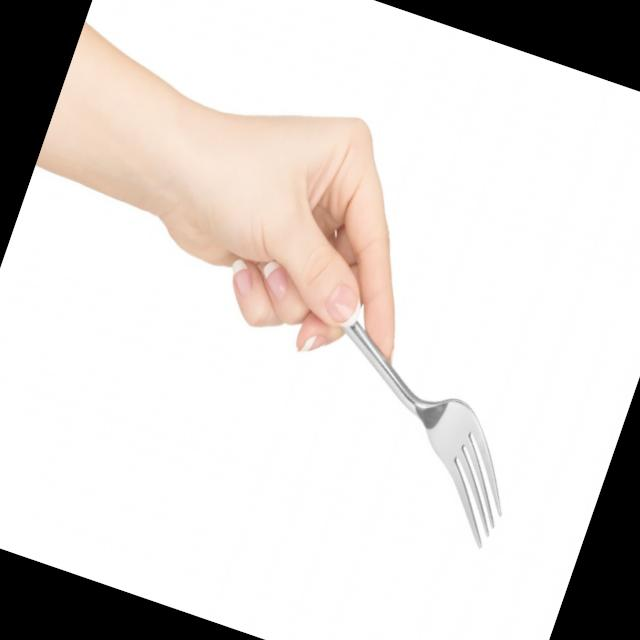fork: (238, 261, 560, 554)
